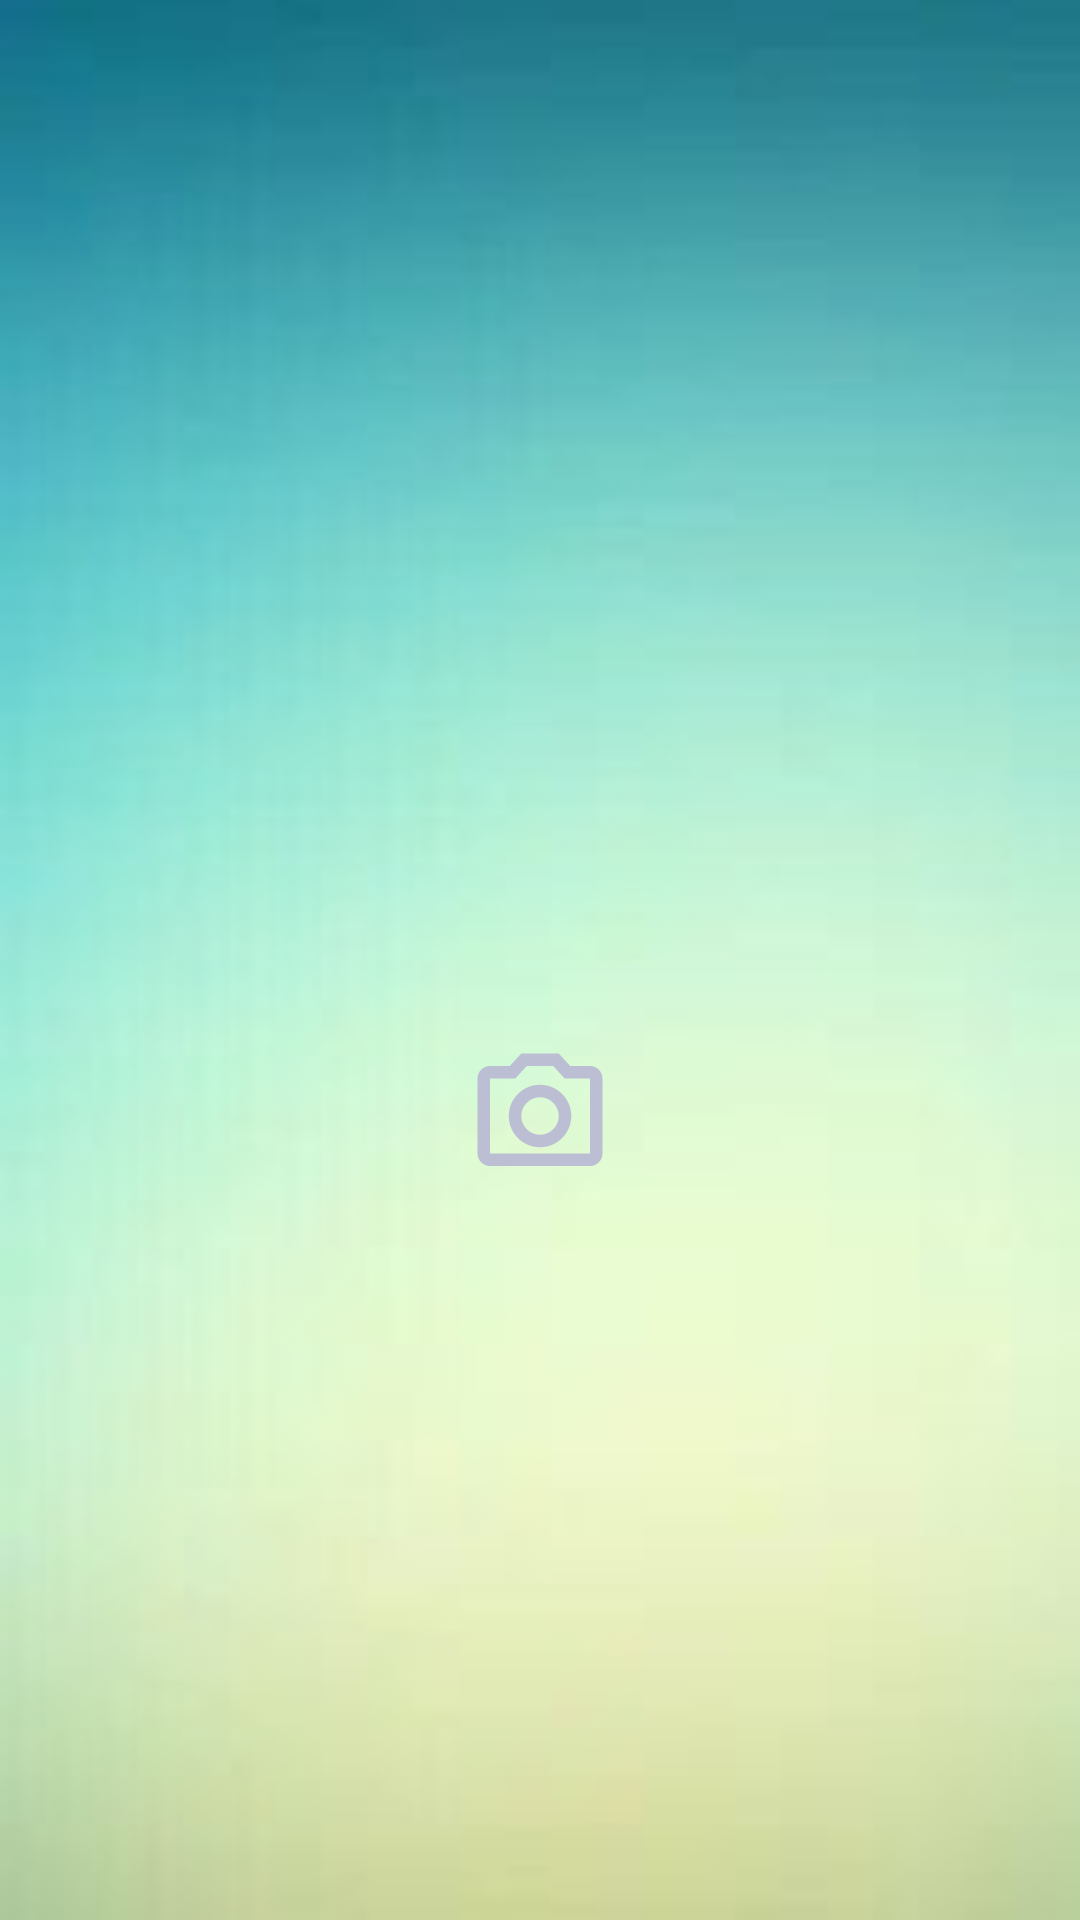

Point at icon controls on the screen. Image size 1080*1920, points as (x=x, y=y).
camera: (x=540, y=1109)
